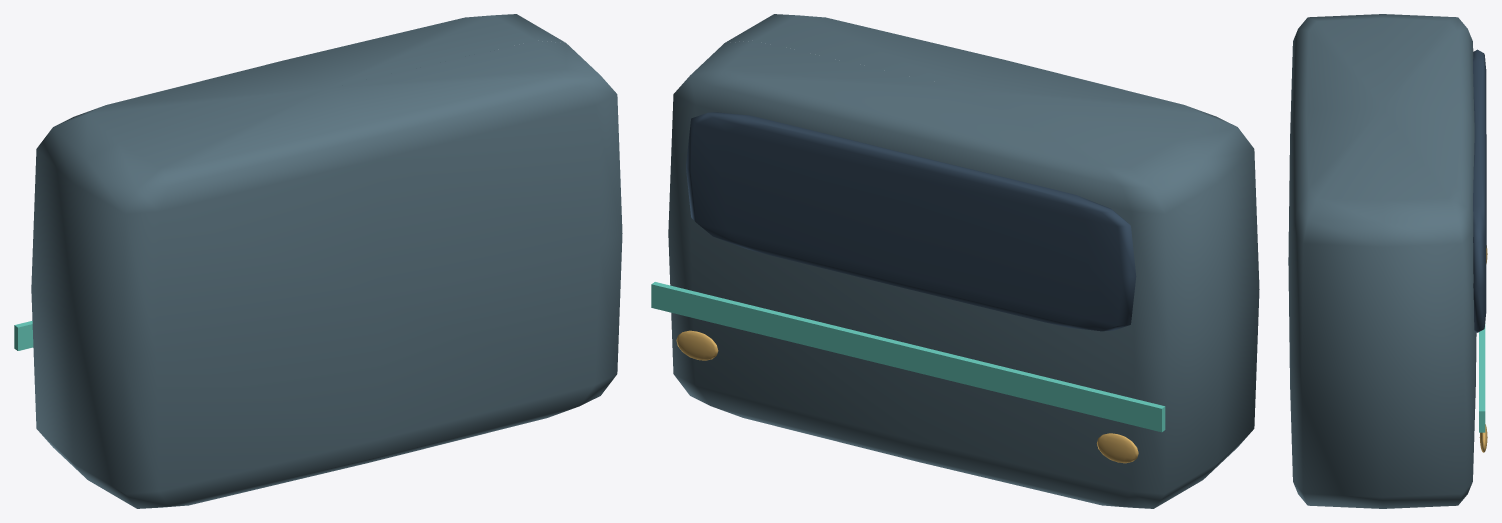
Rendered from transit.glb.
3 renders of one model, left to right at view 1: azimuth 30°, elevation 25°; view 2: azimuth 150°, elevation 25°; view 3: azimuth 270°, elevation 25°, orthographic. The views are drawn at different scales.
Parts seen in each view (by area): view 1: transit; view 2: transit; view 3: transit.
Boxes of the visible parts, x1,y1,x2,y2 form: transit: [14, 14, 622, 508]; transit: [651, 14, 1259, 508]; transit: [1288, 14, 1487, 508].
Size of the model in its own units: 3.44 by 2.2 by 1.29.
